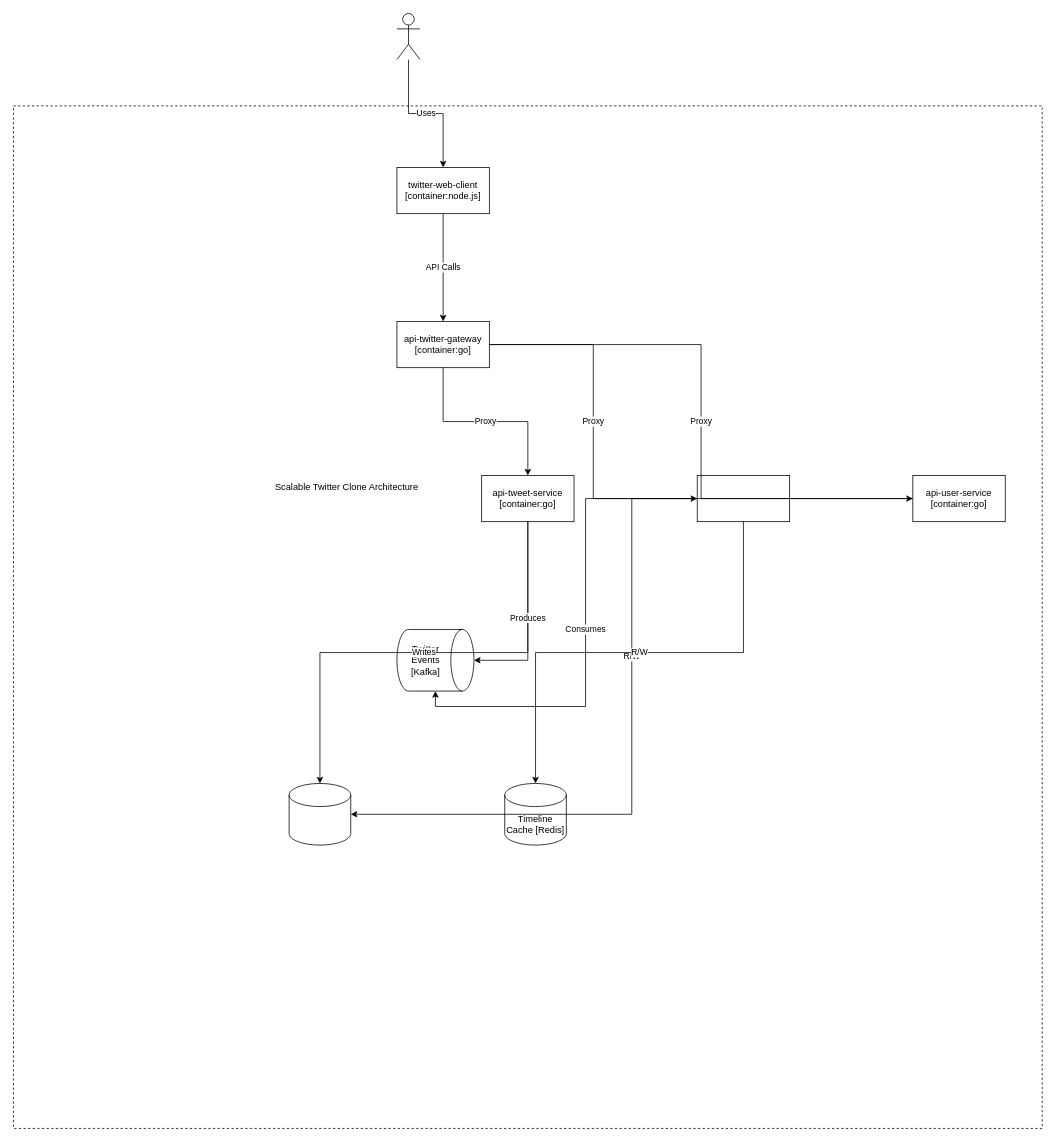
This 1056x1142 diagram has some shape labels left out. The box of each missing label's shape, as (x1, y1, x2, y2) in pixels:
api-timeline-service [container:go]: (696, 475, 790, 522)
Twitter DB [Cassandra]: (288, 783, 351, 845)
Twitter User: (396, 13, 420, 60)
